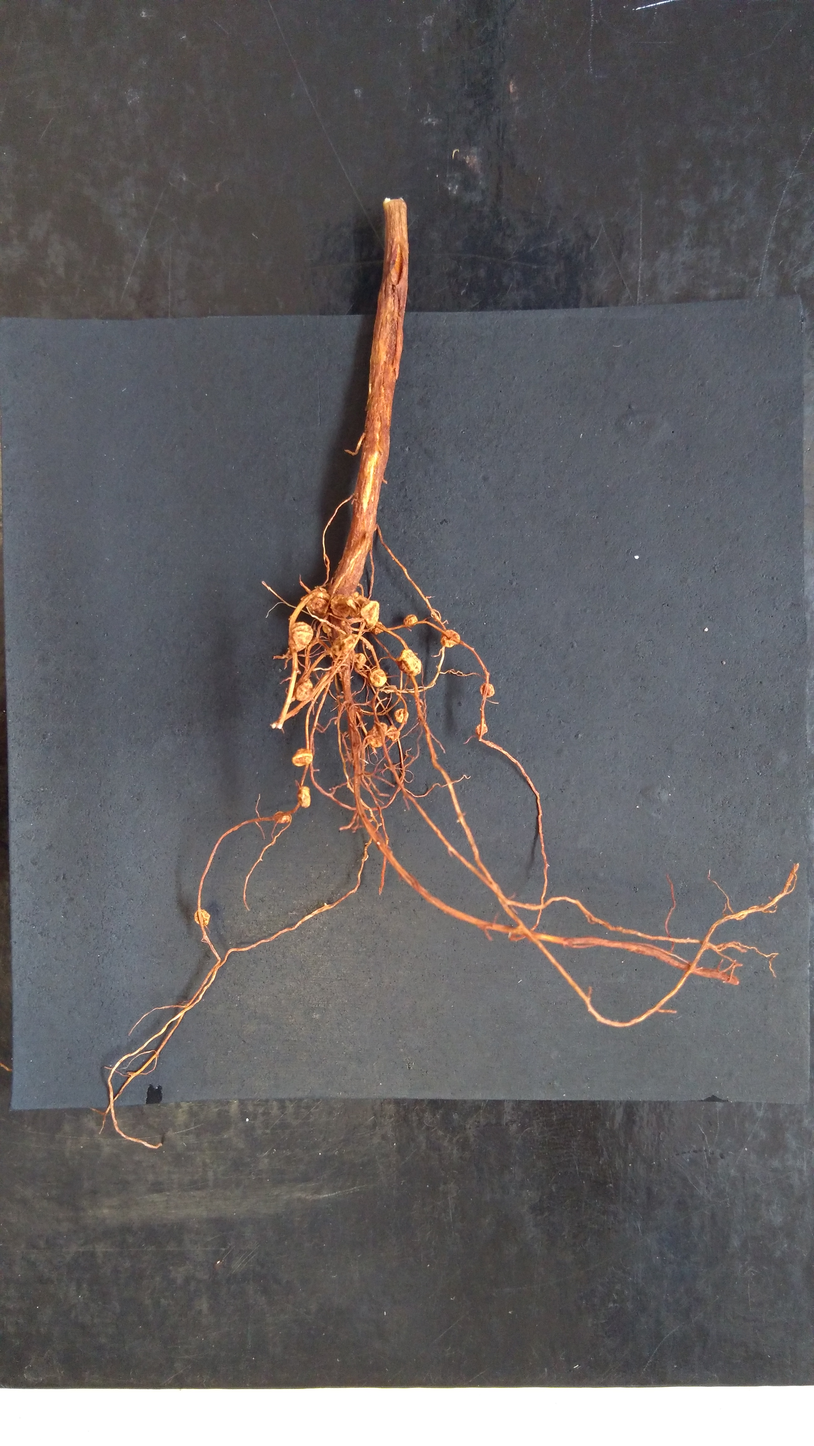nodule: (305, 585, 331, 619), (394, 648, 423, 677), (290, 620, 314, 654), (331, 633, 356, 657), (360, 599, 380, 629), (366, 721, 388, 748), (329, 593, 351, 619), (293, 678, 315, 703), (290, 747, 315, 768), (439, 628, 461, 649), (367, 667, 389, 688), (297, 785, 312, 809), (193, 908, 212, 926), (479, 681, 495, 698), (393, 707, 409, 724), (273, 810, 292, 824), (402, 612, 419, 626), (386, 725, 400, 742), (371, 619, 385, 635), (356, 652, 367, 670), (474, 723, 489, 736), (429, 608, 442, 622)
